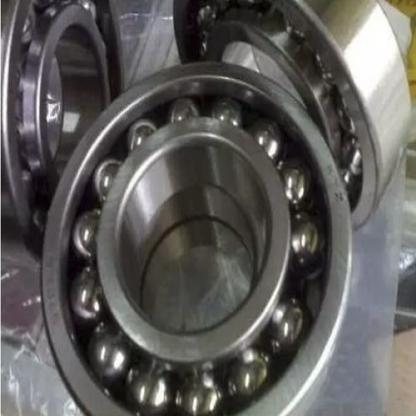FOD: (36, 53, 358, 415), (169, 0, 414, 232)
